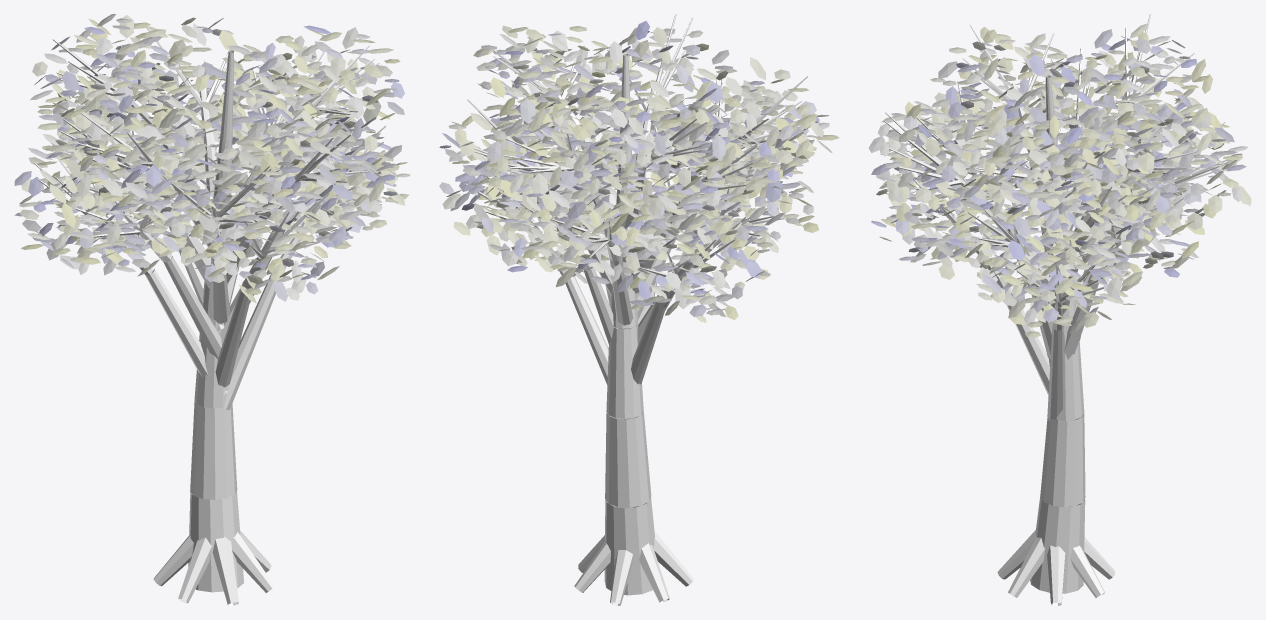
File: SM_HQ_Tree_1.fbx
3 renders of one model, left to right at view 1: azimuth 30°, elevation 25°; view 2: azimuth 150°, elevation 25°; view 3: azimuth 270°, elevation 25°, orthographic. The views are drawn at different scales.
Parts seen in each view (by area): view 1: SM_HQ_Tree_1.001; view 2: SM_HQ_Tree_1.001; view 3: SM_HQ_Tree_1.001.
Part boxes in pixels (left/top/right/bottom): SM_HQ_Tree_1.001: left=14, top=14, right=410, bottom=605; SM_HQ_Tree_1.001: left=439, top=14, right=839, bottom=605; SM_HQ_Tree_1.001: left=868, top=14, right=1251, bottom=605.
Bounding box in the file's own units: 483 × 476 × 711.
